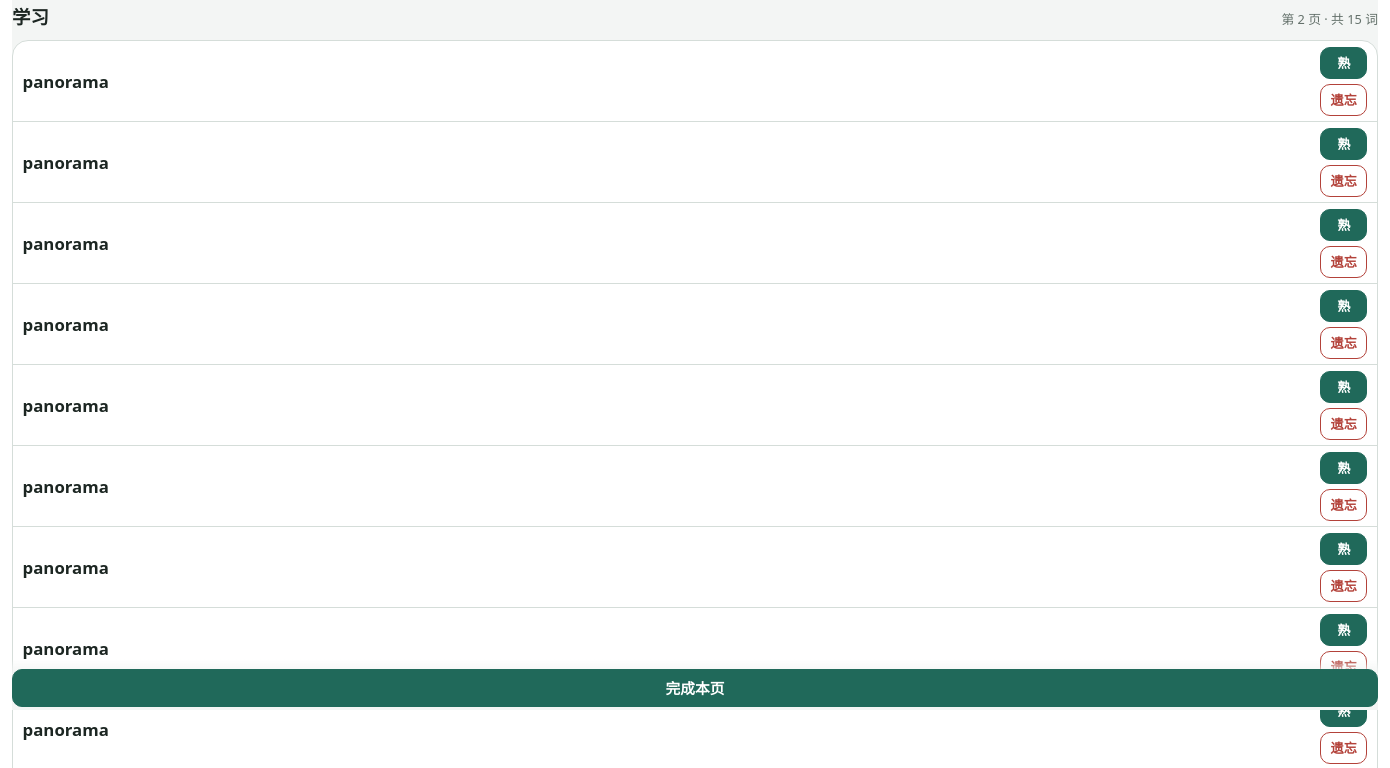
Test: 学习页 › 遗忘后立即更新该行的遗忘次数，全零时不显示计数
Click the 1st button "遗忘": (1344, 100) [1320,84,1367,116]
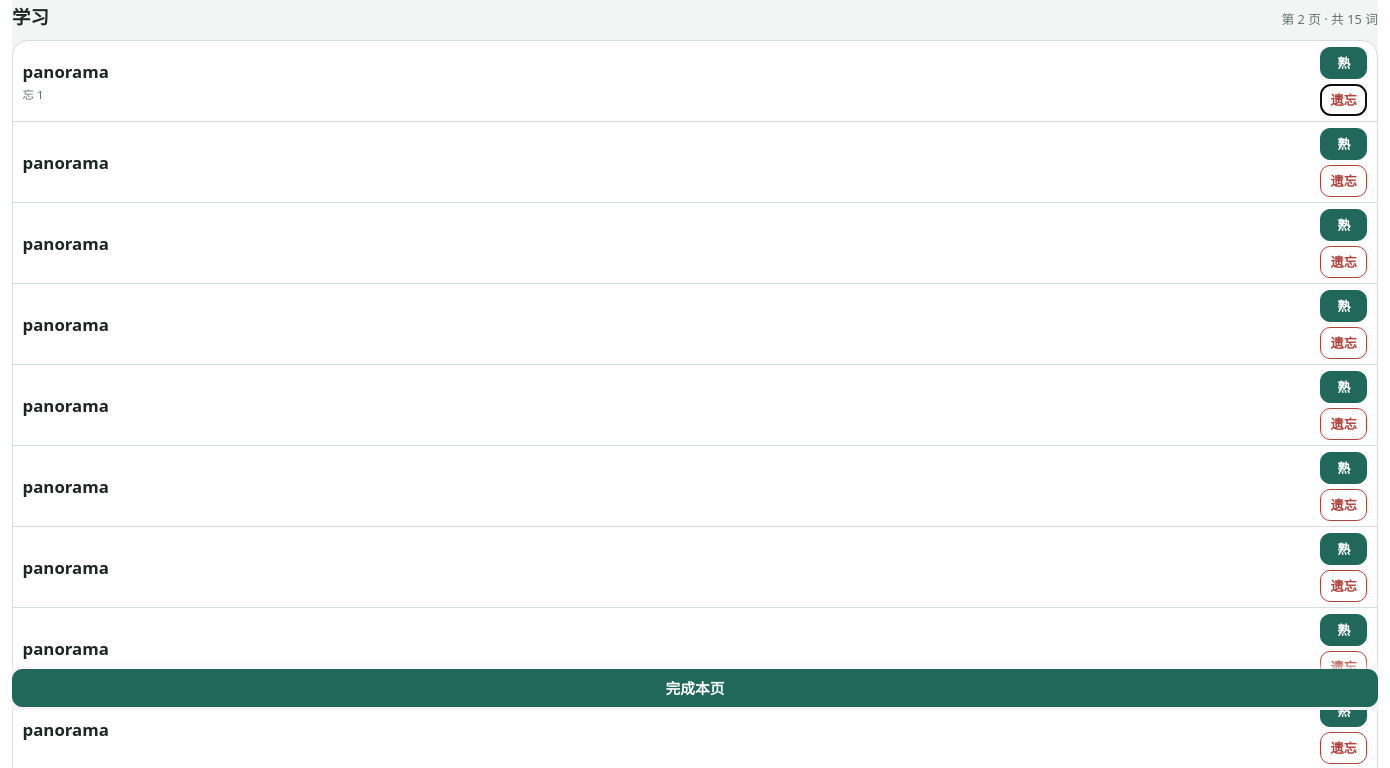
Check: the text "忘 1" is shown, box [23,87,44,102]
